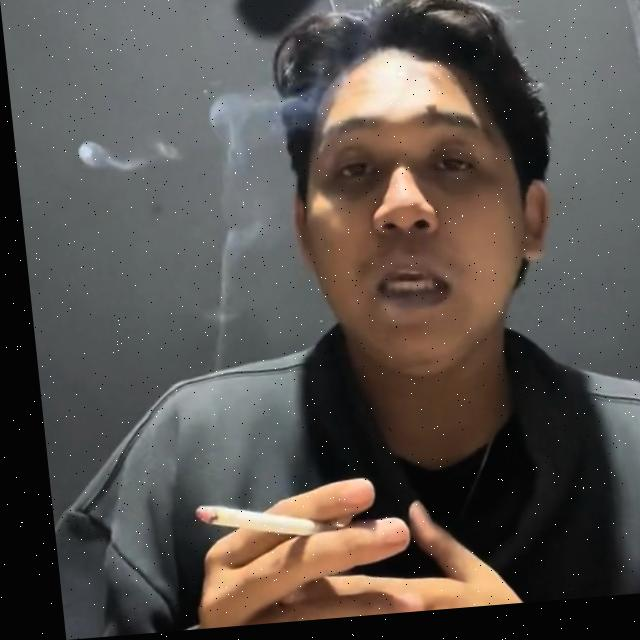cigarette: (183, 500, 304, 546)
